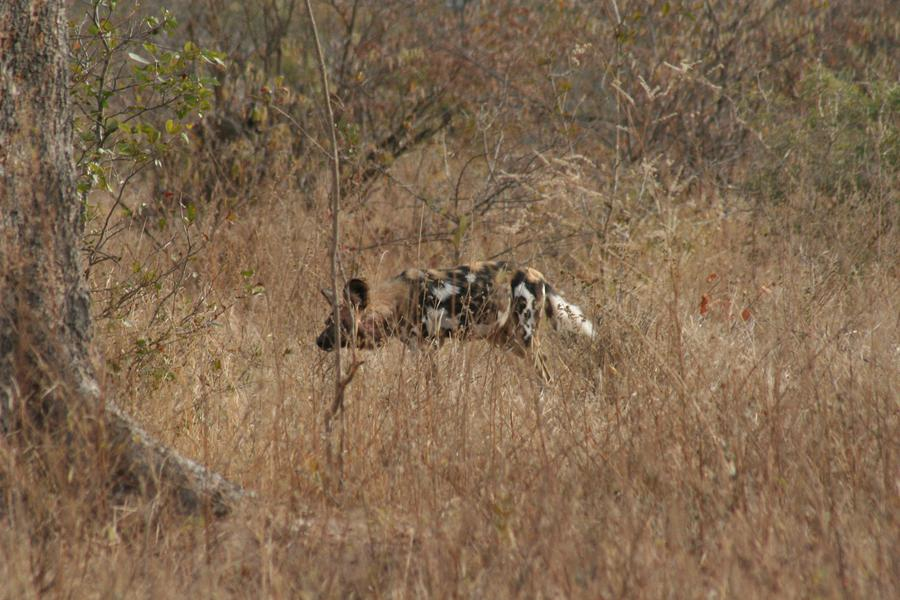wilddog: (319, 253, 554, 375)
